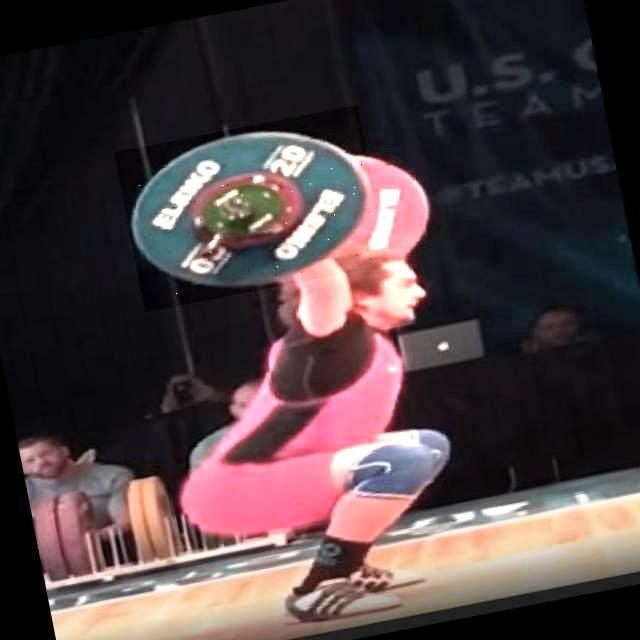barbell: (115, 106, 390, 312)
